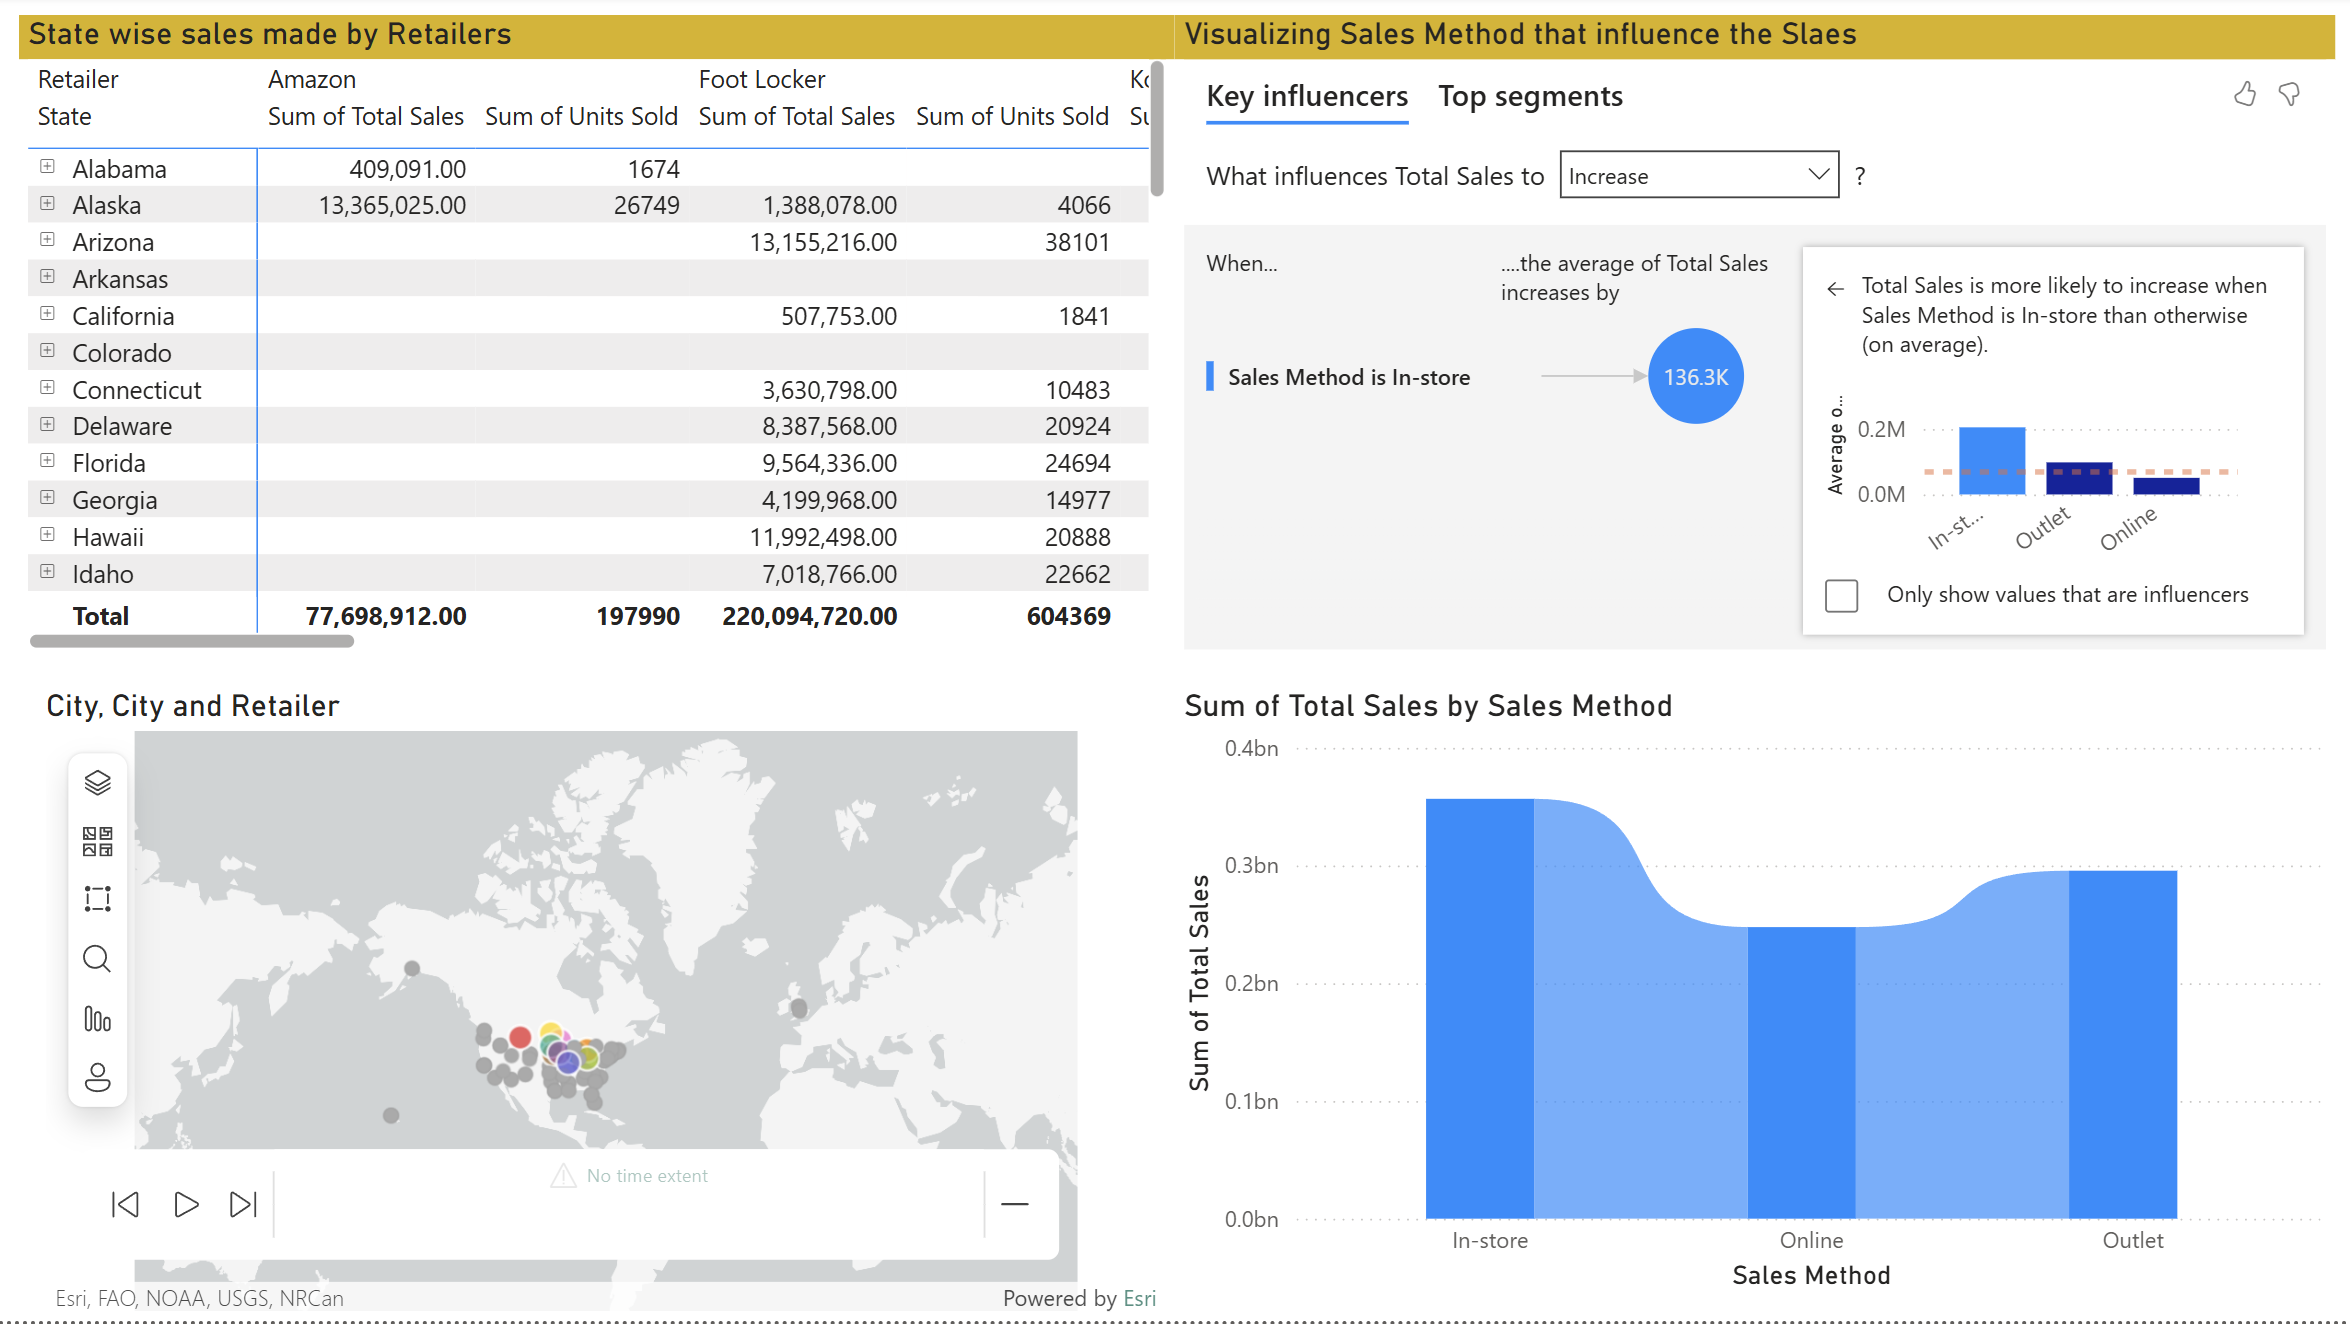

The page's visual inventory and layout, read from the dashboard file:
{"tool":"powerbi","page":{"name":"Page 3","canvas":[1280,720],"ordinal":2},"visuals":[{"type":"pivotTable","title":"State wise sales made by Retailers","fields":{"Rows":["Data Sales Adidas.State","Data Sales Adidas.Sales Method"],"Columns":["Data Sales Adidas.Retailer"],"Values":["Sum(Data Sales Adidas.Total Sales)","Sum(Data Sales Adidas.Units Sold)"]},"box":[13.2,10.5,627.5,349.3],"z":0},{"type":"keyDriversVisual","title":"Visualizing Sales Method that influence the Slaes","fields":{"Target":["Data Sales Adidas.Total Sales"],"ExplainBy":["Data Sales Adidas.Sales Method"]},"box":[640.7,10.5,630.1,349.3],"z":1},{"type":"esriVisual","fields":{"Time":["Data Sales Adidas.Retailer"],"Location":["Data Sales Adidas.City"],"Color":["Data Sales Adidas.City"]},"box":[22.4,375.7,618.2,344.1],"z":2},{"type":"ribbonChart","fields":{"Category":["Data Sales Adidas.Product","Data Sales Adidas.Sales Method"],"Y":["Sum(Data Sales Adidas.Total Sales)"]},"box":[640.7,375.7,630.1,332.2],"z":3}]}

Visuals, with their boxes in screenshot pixels (x1, y1, x2, y2), scaled from the page's 1280x720 canvas onto the 2350x1324 screenshot:
"State wise sales made by Retailers" pivotTable: x1=24 y1=19 x2=1176 y2=662
"Visualizing Sales Method that influence the Slaes" keyDriversVisual: x1=1176 y1=19 x2=2333 y2=662
esriVisual - Data Sales Adidas.Retailer x Data Sales Adidas.City: x1=41 y1=691 x2=1176 y2=1323
ribbonChart - Data Sales Adidas.Product x Data Sales Adidas.Sales Method: x1=1176 y1=691 x2=2333 y2=1302
